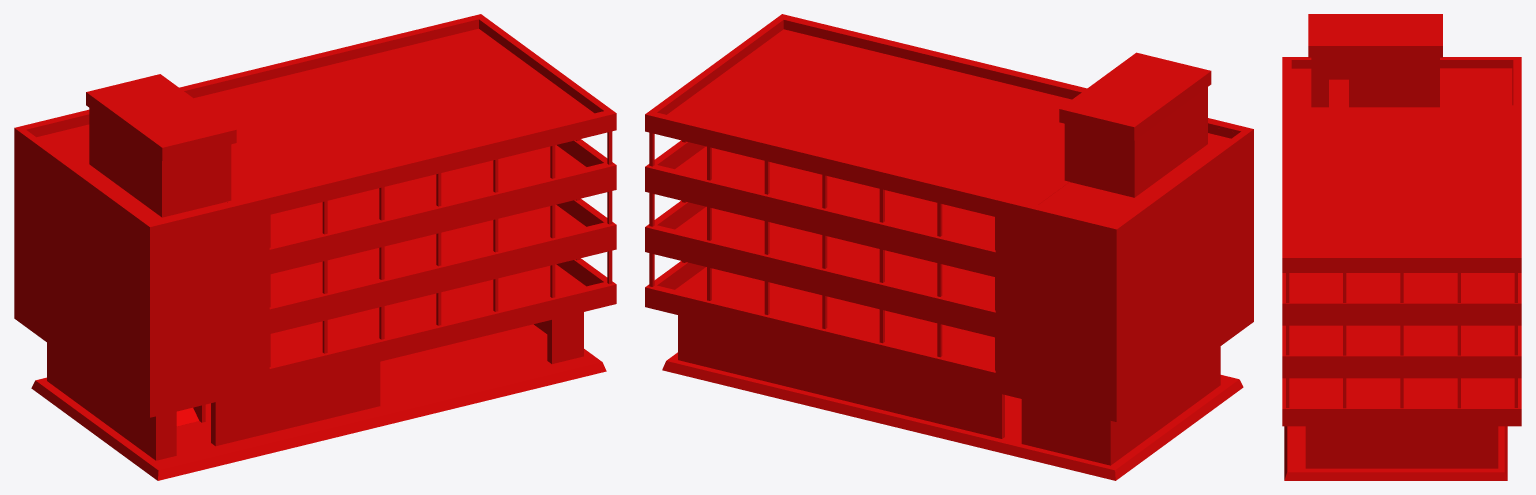
The model's file is SM_Bld_Commercial_Medium_01_Collision.fbx.
3 renders of one model, left to right at view 1: azimuth 30°, elevation 25°; view 2: azimuth 150°, elevation 25°; view 3: azimuth 270°, elevation 25°, orthographic. The views are drawn at different scales.
Parts seen in each view (by area): view 1: SM_Bld_Commercial_Medium_01_Collision; view 2: SM_Bld_Commercial_Medium_01_Collision; view 3: SM_Bld_Commercial_Medium_01_Collision.
Part boxes in pixels (<box>): SM_Bld_Commercial_Medium_01_Collision: <box>14,14,616,480</box>; SM_Bld_Commercial_Medium_01_Collision: <box>645,14,1253,480</box>; SM_Bld_Commercial_Medium_01_Collision: <box>1282,14,1521,480</box>.
Bounding box in the file's own units: 2458 × 1635 × 1238.
